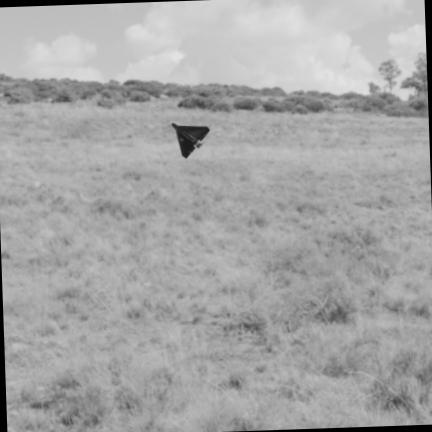Shahed: (172, 123, 209, 158)
